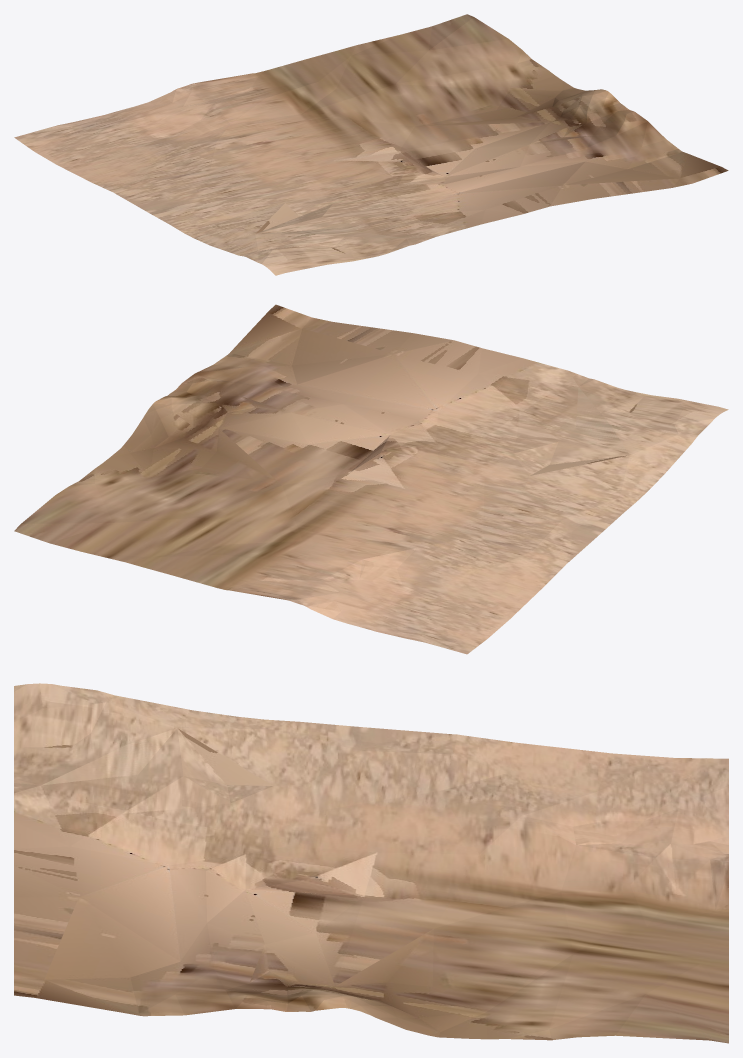
The picture shows the model from 3 angles, top to bottom: view 1: azimuth 30°, elevation 25°; view 2: azimuth 150°, elevation 25°; view 3: azimuth 270°, elevation 25°; orthographic projection. The views are drawn at different scales.
Bounding box in the file's own units: 1.04 × 0.1225 × 1.04.
2 materials, 2 textured.
